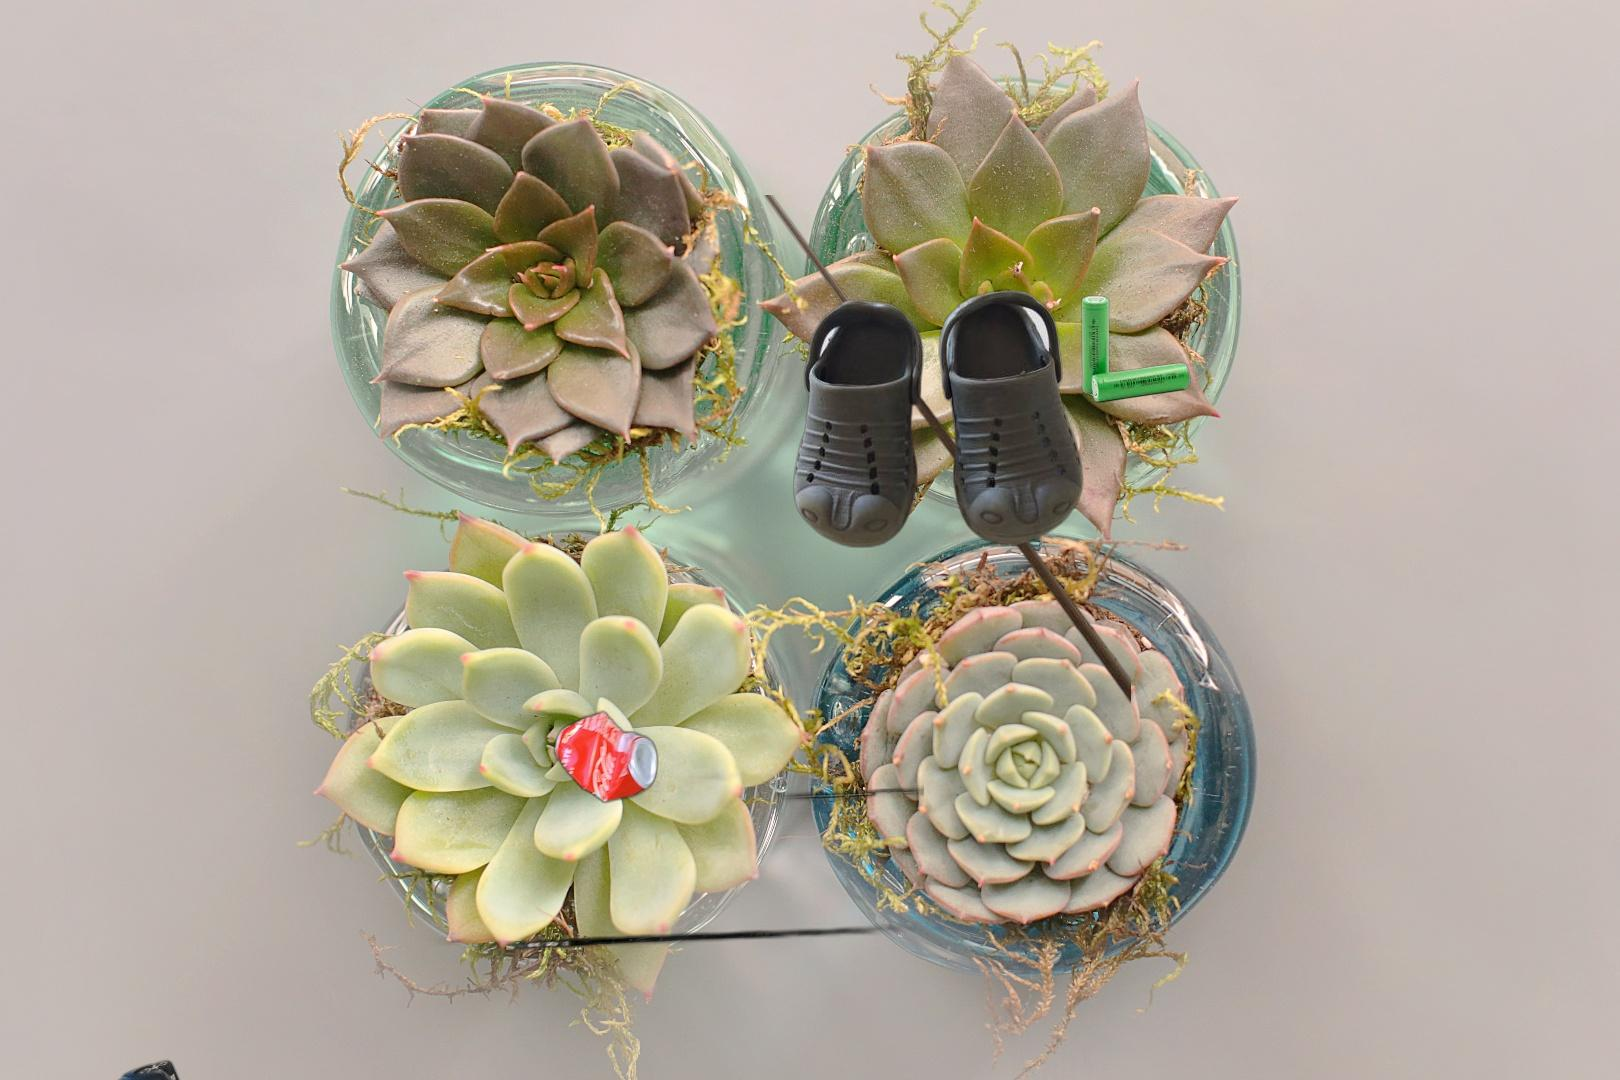battery: (1079, 293, 1193, 405)
metal-cans: (412, 706, 925, 1080)
paper: (92, 1057, 274, 1080)
shoes: (761, 195, 1131, 706)
